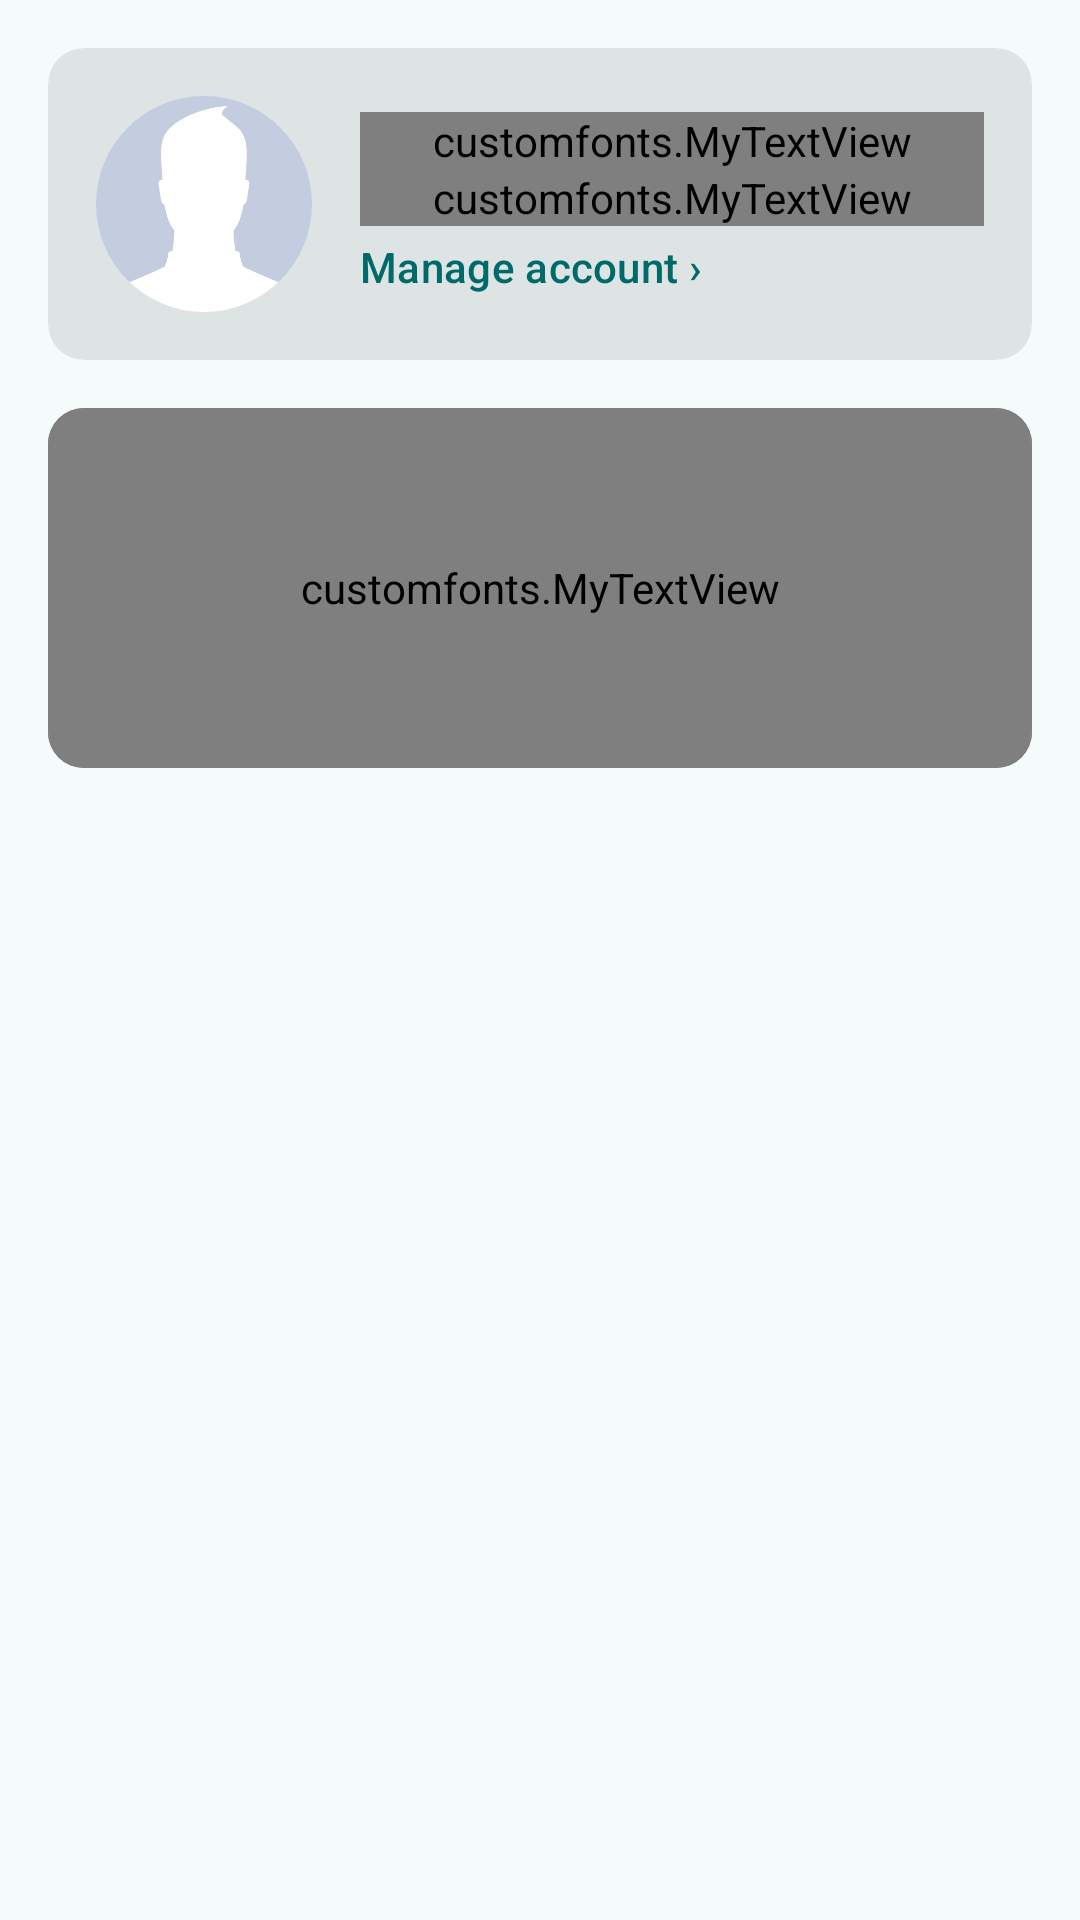

Icons on this 1080 × 1920 Android screen, each with its box as (x1, y1, x2, y2):
Profile picture: (96, 96, 312, 312)
